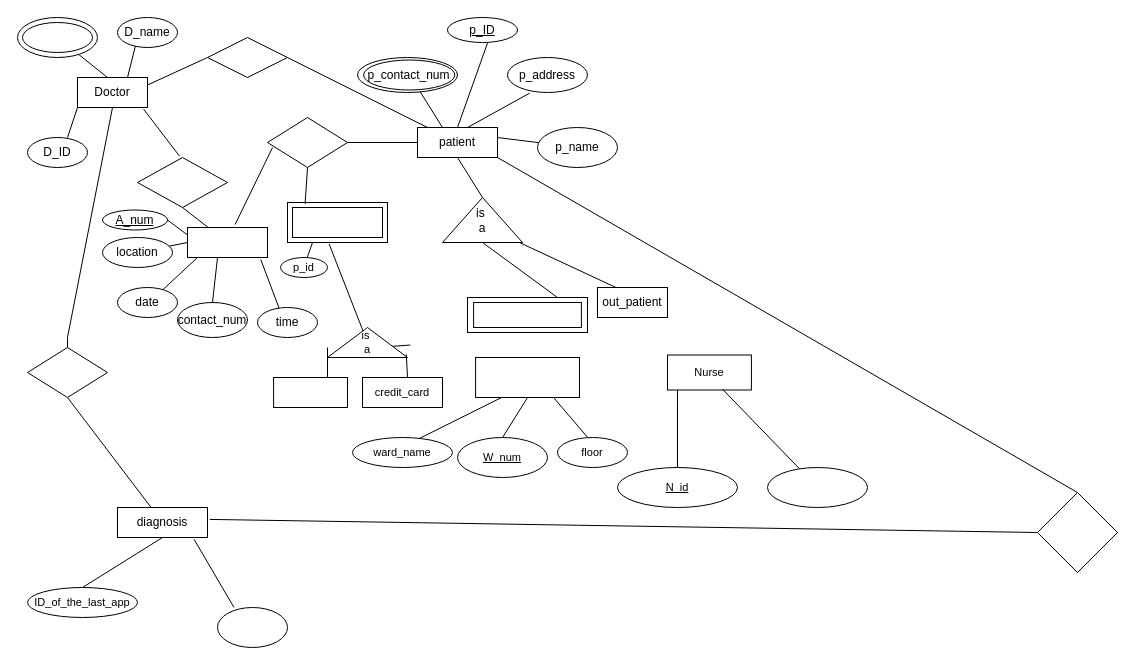
The diagram is 1135 pixels wide and 665 high, and some of its shapes have lost their labels. Each missing label, with the centre of its shape:
"admitted_patient" goes at (x=527, y=315).
"appointment" goes at (x=227, y=242).
"cash" goes at (x=310, y=392).
"D_contact_number" goes at (x=57, y=37).
"DI_ID" goes at (x=252, y=627).
"is diagnosed with" goes at (x=1077, y=532).
"makes" goes at (x=307, y=142).
"N_name" goes at (x=817, y=487).
"payment" goes at (x=337, y=222).
"records" goes at (x=67, y=372).
"relationship" goes at (x=182, y=182).
"treats" goes at (x=247, y=57).
"ward" goes at (x=527, y=377).
